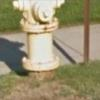a fire hydrant: (13, 0, 65, 72)
